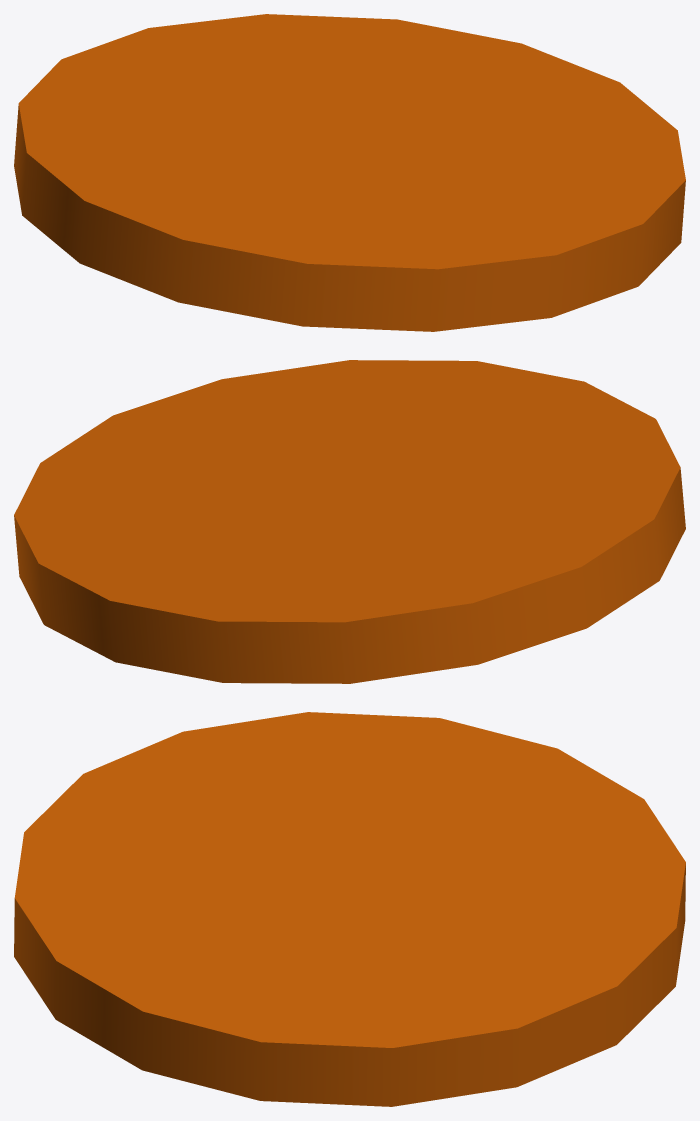
The model's file is Coin.fbx.
The picture shows the model from 3 angles, top to bottom: view 1: azimuth 30°, elevation 25°; view 2: azimuth 150°, elevation 25°; view 3: azimuth 270°, elevation 25°; orthographic projection.
Parts seen in each view (by area): view 1: Circle.010; view 2: Circle.010; view 3: Circle.010.
Boxes of the visible parts, x1,y1,x2,y2 form: Circle.010: (14,14,685,331); Circle.010: (14,360,685,683); Circle.010: (14,712,685,1106).
Bounding box in the file's own units: 29.15 × 29.04 × 5.47.
